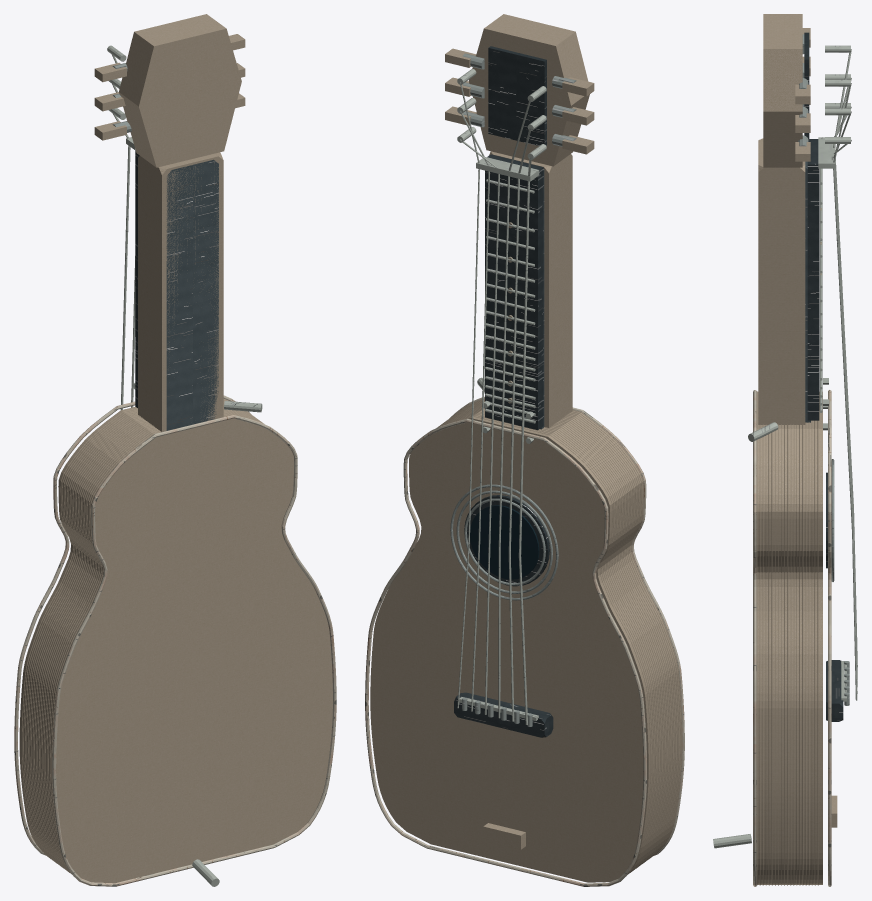
Rendered from printed_guitar.glb.
3 views of the same model, side by side, from view 1: azimuth 30°, elevation 25°; view 2: azimuth 150°, elevation 25°; view 3: azimuth 270°, elevation 25° (orthographic).
Parts seen in each view (by area): view 1: printed_sintered_regolith_body, headstock_printed, neck_core_dark_alloy, neck_printed_shell_printed, body_binding_1_warm_shell, body_binding_0_warm_shell, front_surface_warm_shell, guitar_string_0_satin_steel, printed_layer_ridge_14_printed, printed_layer_ridge_16_printed, fingerboard_graphite, printed_layer_ridge_18_printed (+17 smaller); view 2: front_surface_warm_shell, printed_sintered_regolith_body, fingerboard_graphite, neck_printed_shell_printed, headstock_printed, body_binding_0_warm_shell, headstock_face_plate_graphite, soundhole_inner_dark_glass, bridge_carbon_composite_graphite, guitar_string_2_satin_steel, guitar_string_0_satin_steel, guitar_string_1_satin_steel (+31 smaller); view 3: printed_sintered_regolith_body, neck_printed_shell_printed, headstock_printed, fingerboard_graphite, body_binding_0_warm_shell, body_binding_1_warm_shell, front_surface_warm_shell, guitar_string_5_satin_steel, printed_layer_ridge_20_printed, printed_layer_ridge_0_printed, printed_layer_ridge_1_printed, printed_layer_ridge_2_printed (+28 smaller).
Part boxes in pixels (x1,y1,x2,y2): printed_sintered_regolith_body: [21, 408, 332, 883]; headstock_printed: [119, 14, 241, 167]; neck_core_dark_alloy: [166, 159, 218, 430]; neck_printed_shell_printed: [138, 152, 223, 431]; body_binding_1_warm_shell: [52, 415, 336, 886]; body_binding_0_warm_shell: [14, 395, 251, 855]; front_surface_warm_shell: [19, 398, 225, 849]; guitar_string_0_satin_steel: [112, 113, 130, 409]; printed_layer_ridge_14_printed: [43, 409, 259, 872]; printed_layer_ridge_16_printed: [46, 411, 263, 873]; fingerboard_graphite: [135, 150, 139, 407]; printed_layer_ridge_18_printed: [49, 413, 255, 868]; front_surface_warm_shell: [370, 417, 650, 882]; printed_sintered_regolith_body: [454, 404, 681, 864]; fingerboard_graphite: [485, 154, 543, 430]; neck_printed_shell_printed: [489, 151, 572, 427]; headstock_printed: [469, 14, 589, 166]; body_binding_0_warm_shell: [365, 418, 646, 886]; headstock_face_plate_graphite: [488, 46, 546, 145]; soundhole_inner_dark_glass: [470, 505, 539, 579]; bridge_carbon_composite_graphite: [454, 692, 553, 737]; guitar_string_2_satin_steel: [498, 99, 531, 718]; guitar_string_0_satin_steel: [518, 157, 531, 724]; guitar_string_1_satin_steel: [508, 128, 531, 721]; printed_sintered_regolith_body: [757, 392, 820, 884]; neck_printed_shell_printed: [758, 138, 805, 424]; headstock_printed: [763, 14, 802, 167]; fingerboard_graphite: [807, 139, 819, 420]; body_binding_0_warm_shell: [828, 390, 831, 886]; body_binding_1_warm_shell: [753, 390, 756, 886]; front_surface_warm_shell: [819, 392, 822, 884]; guitar_string_5_satin_steel: [833, 83, 857, 700]; printed_layer_ridge_20_printed: [756, 391, 757, 885]; printed_layer_ridge_0_printed: [817, 420, 818, 885]; printed_layer_ridge_1_printed: [814, 420, 815, 885]; printed_layer_ridge_2_printed: [811, 420, 812, 885].
Size of the model in its own units: 0.336 by 0.9399 by 0.151.
8 materials, 8 textured.
